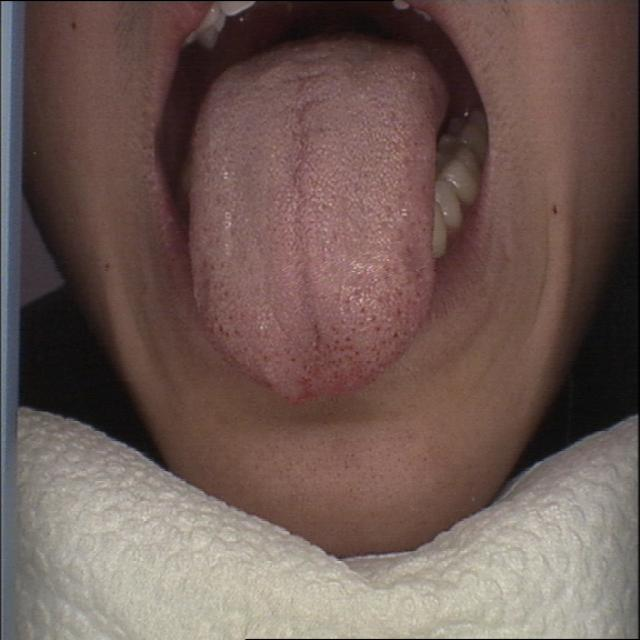tongue: (176, 43, 448, 418)
